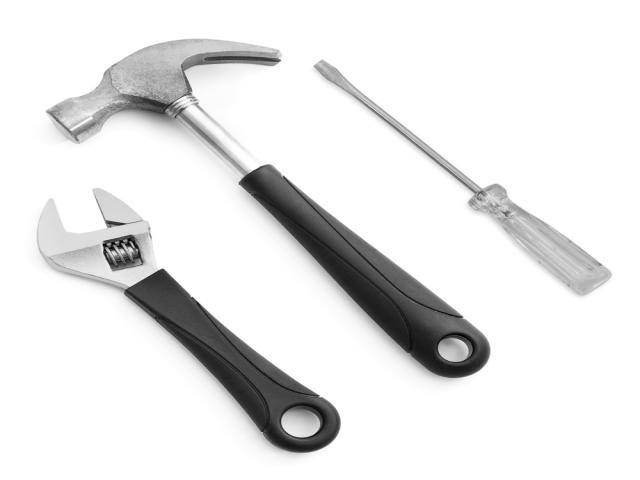Adjustable spanner: (38, 188, 340, 452)
Hammer: (48, 39, 489, 377)
Screwdriver: (314, 60, 611, 295)
